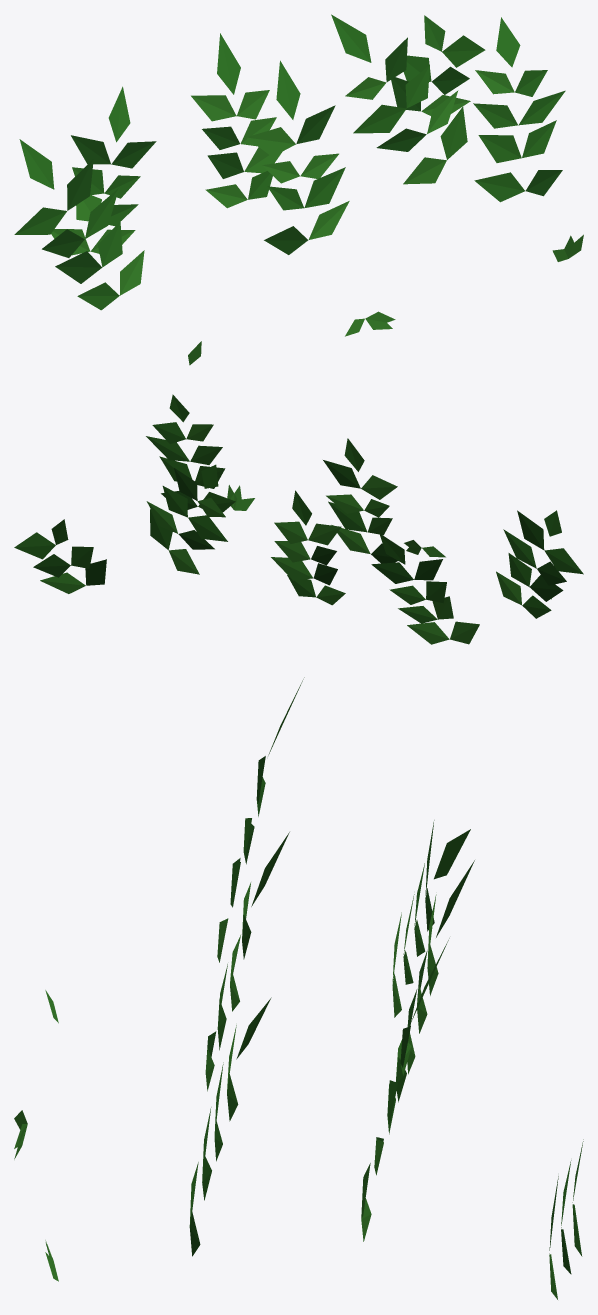
3 views of the same model, one above another, from view 1: azimuth 30°, elevation 25°; view 2: azimuth 150°, elevation 25°; view 3: azimuth 270°, elevation 25° (orthographic). The views are drawn at different scales.
Visible parts, largest first — view 1: r18c0_l10; view 2: r18c0_l10; view 3: r18c0_l10.
Part boxes in pixels (box(x1,y1,x2,y2)): r18c0_l10: box(14, 14, 583, 365); r18c0_l10: box(14, 394, 583, 644); r18c0_l10: box(14, 677, 583, 1299).
Size of the model in its own units: 1.67 by 0.5793 by 0.9474.
